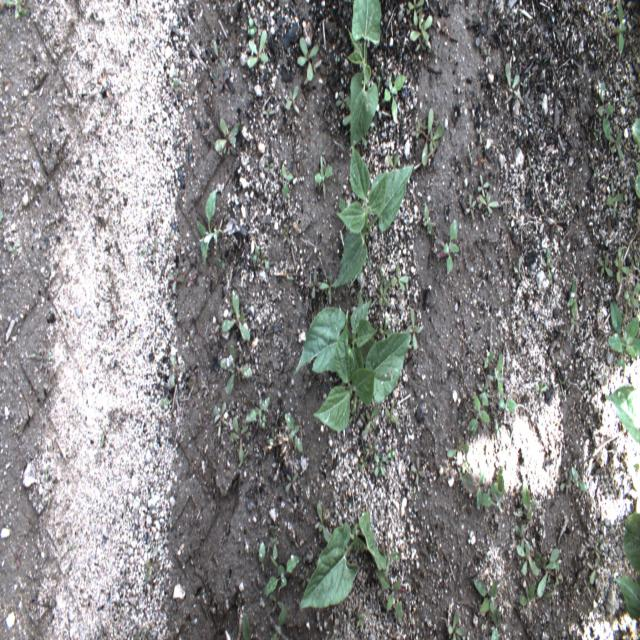crop: (312, 303, 410, 432), (331, 150, 415, 288), (299, 510, 400, 611), (294, 286, 378, 373), (334, 0, 382, 148), (612, 509, 640, 618), (604, 384, 640, 444)
weed: (606, 298, 640, 370), (414, 106, 445, 170), (196, 191, 221, 268), (218, 342, 252, 394), (374, 572, 409, 622), (264, 553, 300, 597), (220, 292, 251, 342), (381, 74, 407, 128), (534, 549, 562, 598), (230, 415, 254, 467), (457, 469, 485, 511), (598, 76, 615, 144), (512, 480, 540, 521), (481, 466, 506, 511), (296, 36, 320, 80), (468, 392, 491, 436), (472, 577, 500, 612), (442, 221, 460, 274), (314, 154, 334, 201), (407, 7, 433, 43), (565, 278, 582, 333), (604, 178, 625, 221), (247, 29, 269, 70), (215, 117, 240, 152), (630, 115, 640, 200), (516, 542, 540, 577), (285, 412, 304, 453), (269, 599, 288, 640), (613, 0, 627, 55), (446, 434, 470, 466), (210, 398, 228, 439), (517, 579, 536, 617), (407, 308, 422, 352), (503, 61, 520, 99), (496, 383, 517, 412), (614, 246, 630, 284), (486, 354, 506, 384), (316, 504, 330, 545), (390, 264, 410, 292), (410, 454, 425, 489), (406, 0, 425, 27), (571, 464, 588, 494), (447, 608, 464, 638), (306, 270, 323, 300), (422, 203, 436, 239), (2, 0, 30, 18), (364, 407, 381, 436), (610, 130, 624, 165), (478, 192, 500, 214), (281, 164, 294, 200), (285, 87, 301, 116), (623, 282, 640, 309), (476, 172, 490, 198), (586, 557, 600, 583), (598, 253, 613, 277), (465, 193, 477, 223), (269, 530, 280, 562), (545, 246, 554, 285), (320, 274, 334, 297), (284, 470, 298, 492), (374, 455, 388, 477), (384, 407, 400, 426), (242, 612, 252, 640), (379, 280, 389, 308)
